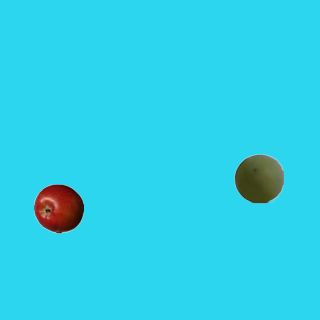Apple Braeburn: (33, 183, 83, 233)
Grape White 4: (233, 153, 283, 203)
